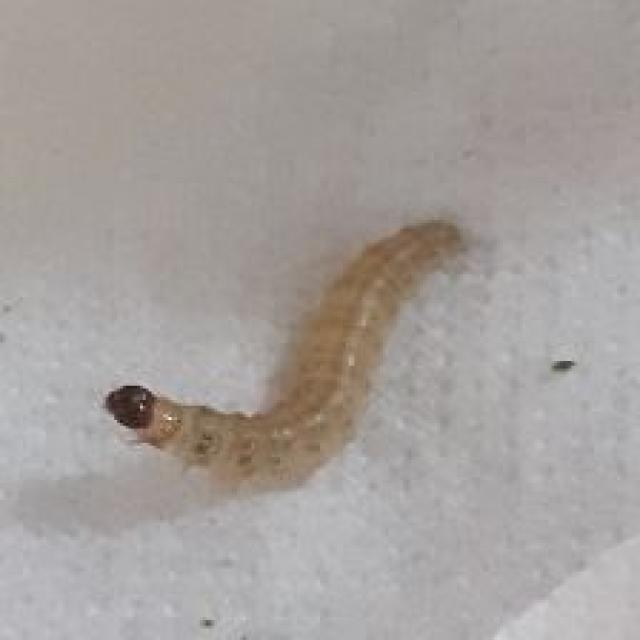white mucus: (73, 193, 492, 511)
